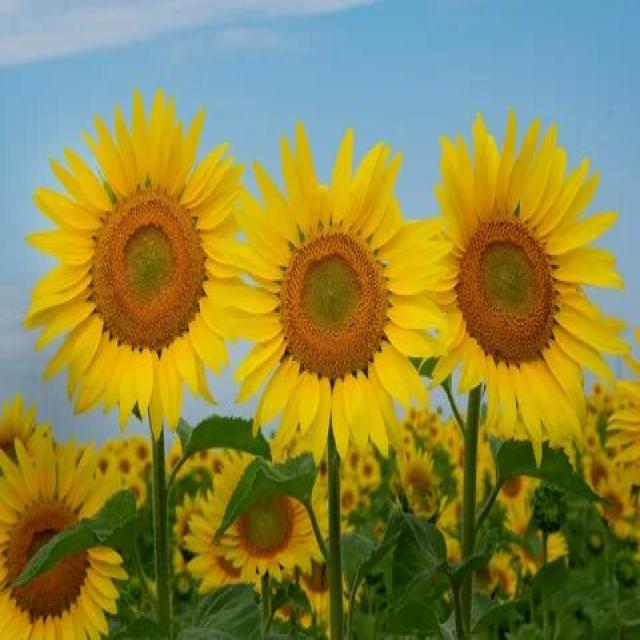sunflower: (231, 118, 456, 476), (20, 84, 256, 422), (420, 107, 629, 486), (1, 425, 136, 636)
